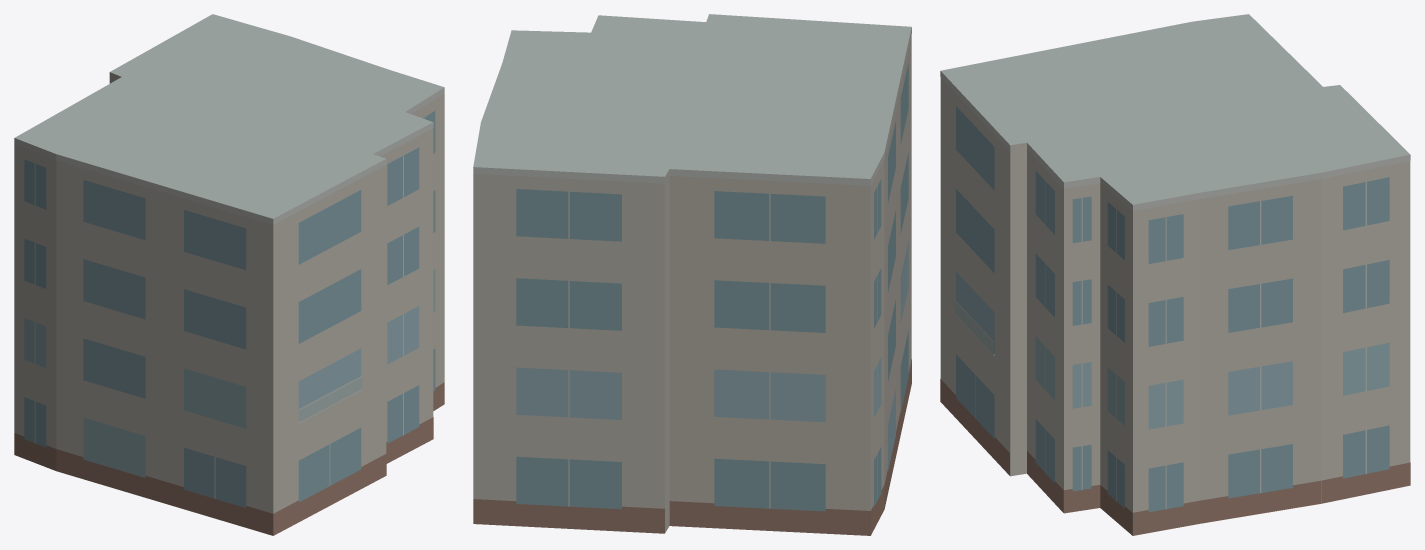
File: survey-upis-32932100.glb
3 views of the same model, side by side, from view 1: azimuth 30°, elevation 25°; view 2: azimuth 150°, elevation 25°; view 3: azimuth 270°, elevation 25° (orthographic). The views are drawn at different scales.
Parts seen in each view (by area): view 1: survey-upis-32932100.tmp; view 2: survey-upis-32932100.tmp; view 3: survey-upis-32932100.tmp.
Part boxes in pixels (x1,y1,x2,y2): survey-upis-32932100.tmp: (14, 14, 444, 535); survey-upis-32932100.tmp: (473, 14, 911, 535); survey-upis-32932100.tmp: (940, 14, 1410, 535).
Bounding box in the file's own units: 15.84 × 12.8 × 16.48.
